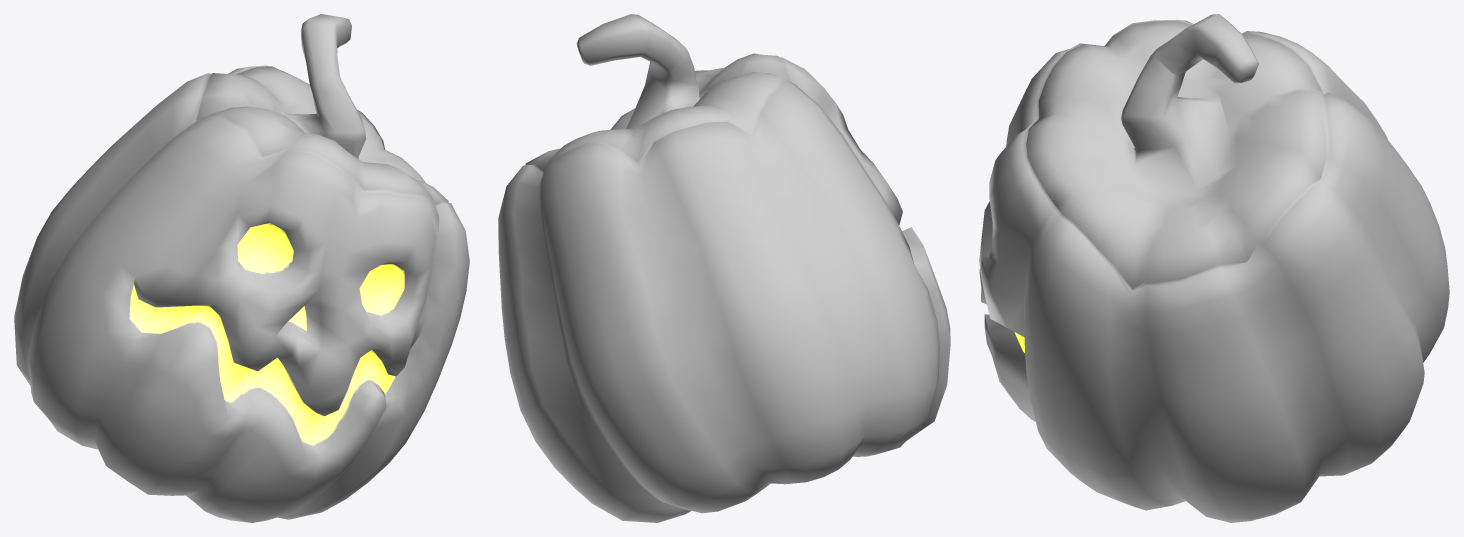
Rendered from ME_Pumpkin02.fbx.
3 renders of one model, left to right at view 1: azimuth 30°, elevation 25°; view 2: azimuth 150°, elevation 25°; view 3: azimuth 270°, elevation 25°, orthographic. The views are drawn at different scales.
Visible parts, largest first — view 1: Pumpkin02; view 2: Pumpkin02; view 3: Pumpkin02.
Boxes of the visible parts, x1,y1,x2,y2 form: Pumpkin02: [14, 14, 469, 522]; Pumpkin02: [498, 14, 950, 522]; Pumpkin02: [979, 14, 1449, 522].
Size of the model in its own units: 1.62 by 1.83 by 1.52.
